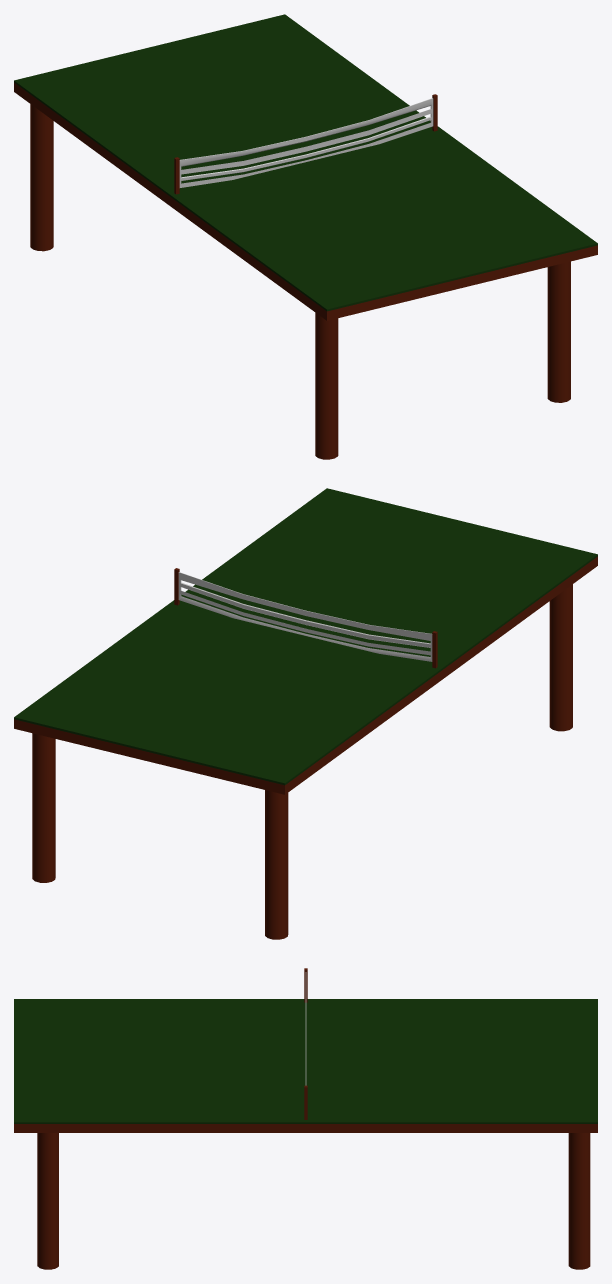
File: pong_table.obj
The picture shows the model from 3 angles, top to bottom: view 1: azimuth 30°, elevation 25°; view 2: azimuth 150°, elevation 25°; view 3: azimuth 270°, elevation 25°; orthographic projection. The views are drawn at different scales.
Parts seen in each view (by area): view 1: Table; view 2: Table; view 3: Table.
Part boxes in pixels (left/top/right/bottom): Table: left=14, top=14, right=597, bottom=459; Table: left=14, top=488, right=597, bottom=939; Table: left=14, top=968, right=597, bottom=1269.
Size of the model in its own units: 2 by 1.4 by 4.
